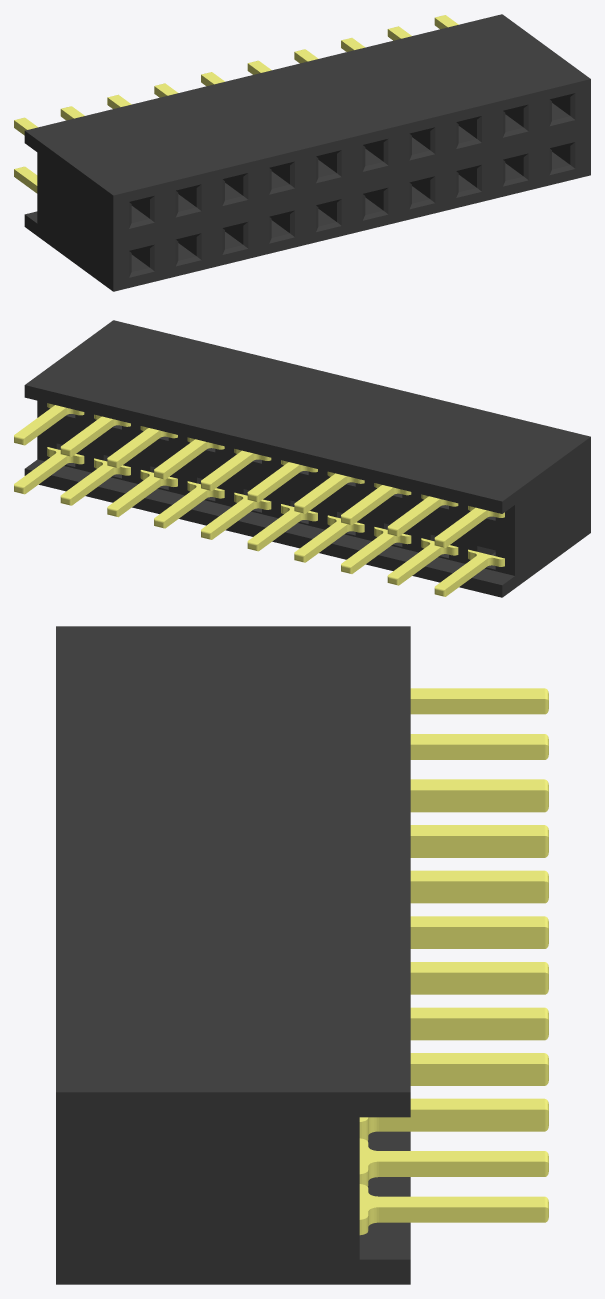
Rendered from 20 pin connector.obj.
The picture shows the model from 3 angles, top to bottom: view 1: azimuth 30°, elevation 25°; view 2: azimuth 150°, elevation 25°; view 3: azimuth 270°, elevation 25°; orthographic projection. The views are drawn at different scales.
Parts seen in each view (by area): view 1: 20_pin_connector; view 2: 20_pin_connector; view 3: 20_pin_connector.
Part boxes in pixels (bbox=[...]): 20_pin_connector: bbox=[14, 14, 590, 291]; 20_pin_connector: bbox=[14, 320, 590, 597]; 20_pin_connector: bbox=[56, 626, 548, 1284].
Size of the model in its own units: 0.0167 by 0.00322 by 0.00748.
